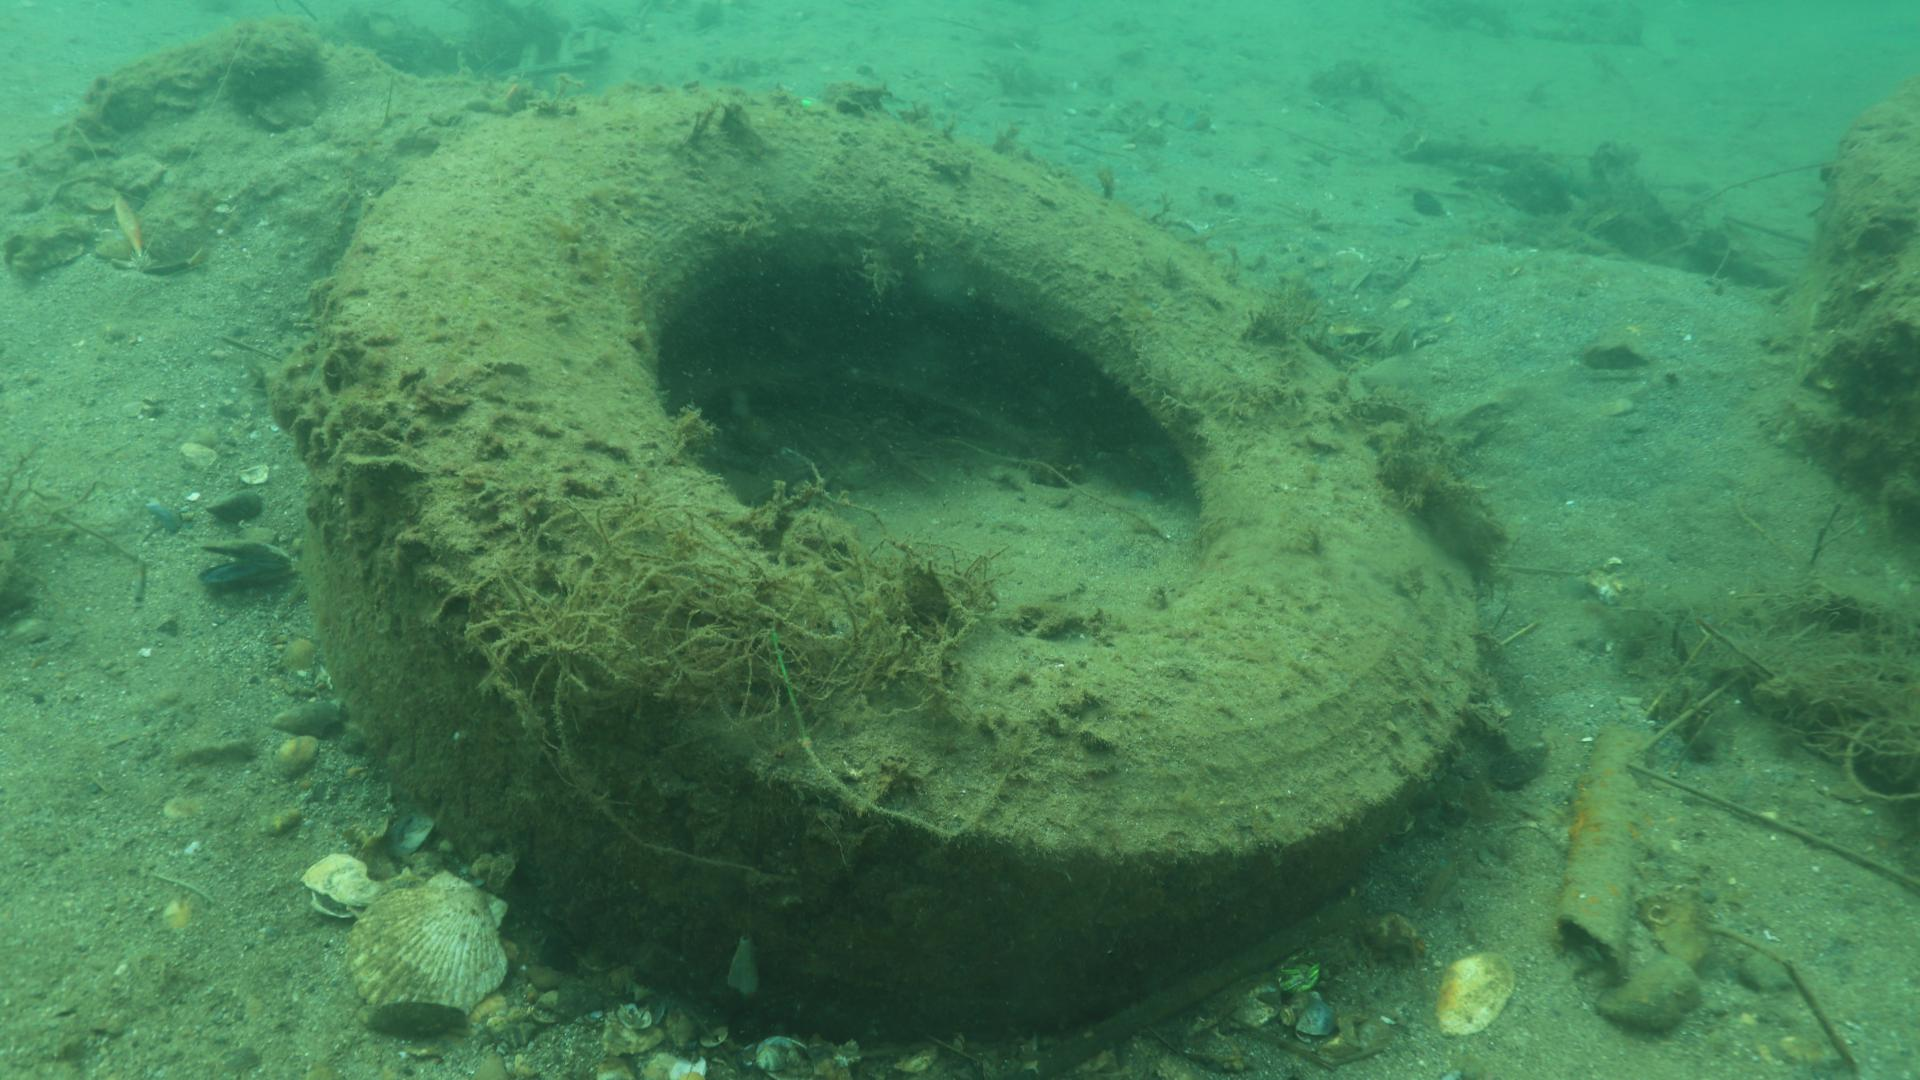tire: (301, 88, 1484, 1038)
